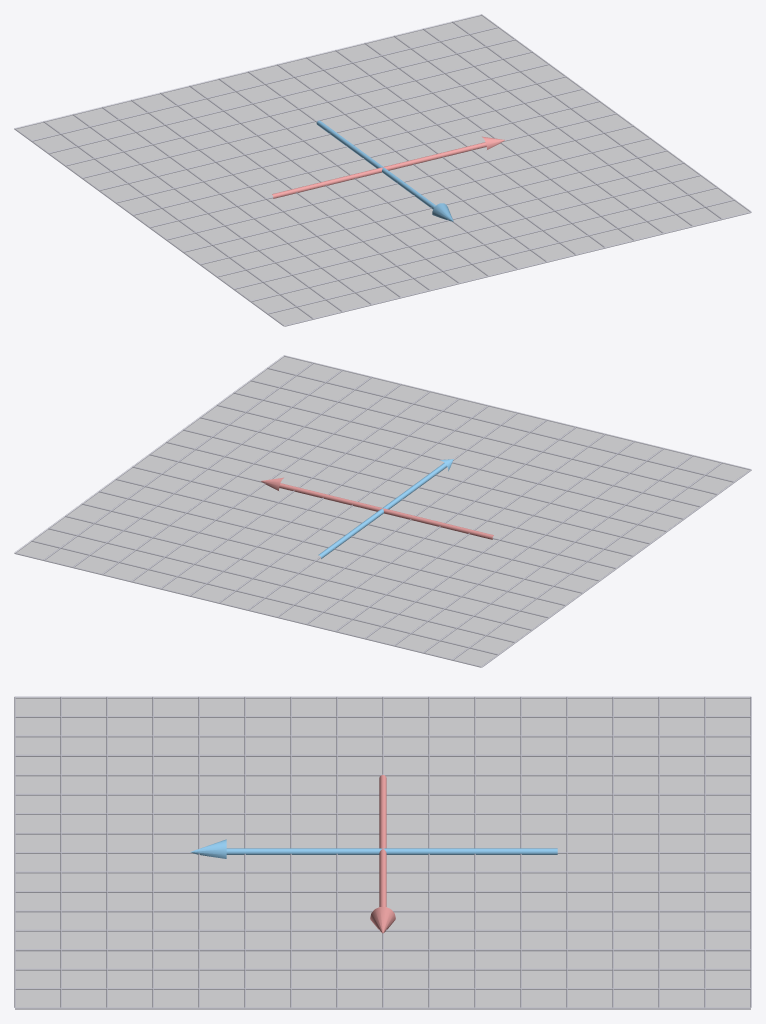
3 views of the same model, one above another, from view 1: azimuth 30°, elevation 25°; view 2: azimuth 150°, elevation 25°; view 3: azimuth 270°, elevation 25° (orthographic). The views are drawn at different scales.
Parts seen in each view (by area): view 1: xy_plane, grid_x_arrow, grid_z_arrow, grid_line_z_16, grid_line_z_14, grid_line_z_15, grid_line_z_13, grid_line_z_1, grid_line_z_0, grid_line_z_4, grid_line_z_2, grid_line_z_3 (+23 smaller); view 2: xy_plane, grid_x_arrow, grid_line_z_0, grid_line_z_1, grid_line_z_2, grid_line_z_3, grid_line_z_4, grid_line_z_15, grid_line_z_16, grid_line_z_13, grid_line_z_14, grid_line_z_5 (+23 smaller); view 3: xy_plane, grid_z_arrow, grid_line_x_3, grid_line_x_16, grid_line_x_0, grid_line_x_2, grid_line_x_13, grid_line_x_14, grid_line_x_4, grid_line_x_12, grid_line_x_5, grid_line_x_7 (+24 smaller).
Boxes of the visible parts, bbox=[...] form: xy_plane: bbox=[15, 15, 750, 326]; grid_x_arrow: bbox=[272, 136, 504, 198]; grid_z_arrow: bbox=[316, 120, 453, 221]; grid_line_z_16: bbox=[284, 211, 751, 326]; grid_line_z_14: bbox=[251, 187, 717, 301]; grid_line_z_15: bbox=[268, 199, 734, 313]; grid_line_z_13: bbox=[234, 174, 700, 289]; grid_line_z_1: bbox=[32, 26, 498, 141]; grid_line_z_0: bbox=[15, 14, 481, 128]; grid_line_z_4: bbox=[82, 63, 548, 178]; grid_line_z_2: bbox=[49, 39, 515, 153]; grid_line_z_3: bbox=[65, 51, 531, 165]; xy_plane: bbox=[15, 356, 750, 667]; grid_x_arrow: bbox=[261, 477, 493, 539]; grid_line_z_0: bbox=[14, 552, 481, 667]; grid_line_z_1: bbox=[31, 540, 497, 654]; grid_line_z_2: bbox=[48, 528, 514, 642]; grid_line_z_3: bbox=[65, 515, 531, 630]; grid_line_z_4: bbox=[82, 503, 548, 617]; grid_line_z_15: bbox=[267, 367, 733, 482]; grid_line_z_16: bbox=[284, 355, 750, 469]; grid_line_z_13: bbox=[234, 392, 700, 506]; grid_line_z_14: bbox=[250, 380, 716, 494]; grid_line_z_5: bbox=[99, 491, 565, 605]; xy_plane: bbox=[15, 698, 750, 1008]; grid_z_arrow: bbox=[190, 839, 557, 858]; grid_line_x_3: bbox=[15, 754, 750, 756]; grid_line_x_16: bbox=[15, 1007, 750, 1009]; grid_line_x_0: bbox=[15, 696, 750, 698]; grid_line_x_2: bbox=[15, 735, 750, 737]; grid_line_x_13: bbox=[15, 949, 750, 951]; grid_line_x_14: bbox=[15, 968, 750, 970]; grid_line_x_4: bbox=[15, 774, 750, 776]; grid_line_x_12: bbox=[15, 929, 750, 931]; grid_line_x_5: bbox=[15, 793, 750, 795]; grid_line_x_7: bbox=[15, 832, 750, 834].
Bounding box in the file's own units: 1.41 × 0.0493 × 1.41.
